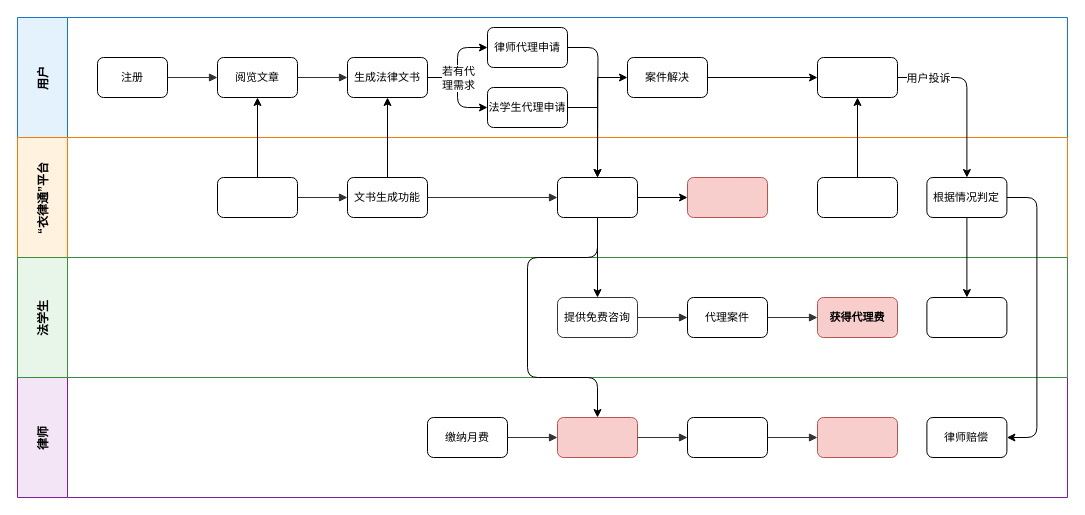
The diagram is 1085 pixels wide and 515 high, and some of its shapes have lost their labels. Each missing label, with the centre of its shape:
"代理平台分配" goes at pixel 597 197.
"平台抽成" goes at pixel 727 197.
"承接案件" goes at pixel 727 437.
"提供知识库" goes at pixel 257 197.
"提供简单咨询 （9.9元/次）" goes at pixel 597 437.
"提醒用户评价" goes at pixel 857 197.
"法学生赔偿" goes at pixel 966 317.
"获得律师费" goes at pixel 857 437.
"评价订单" goes at pixel 857 77.
